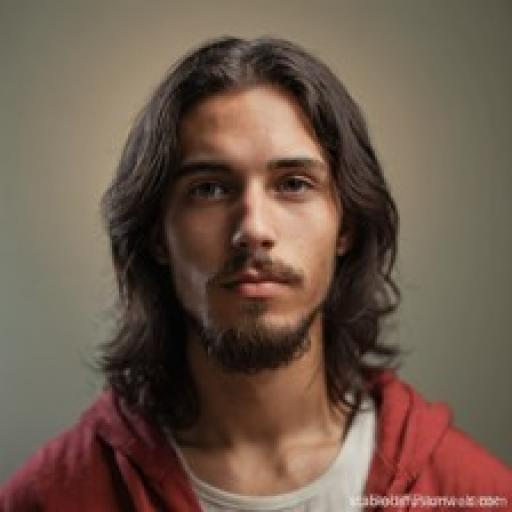human: (0, 33, 512, 511)
